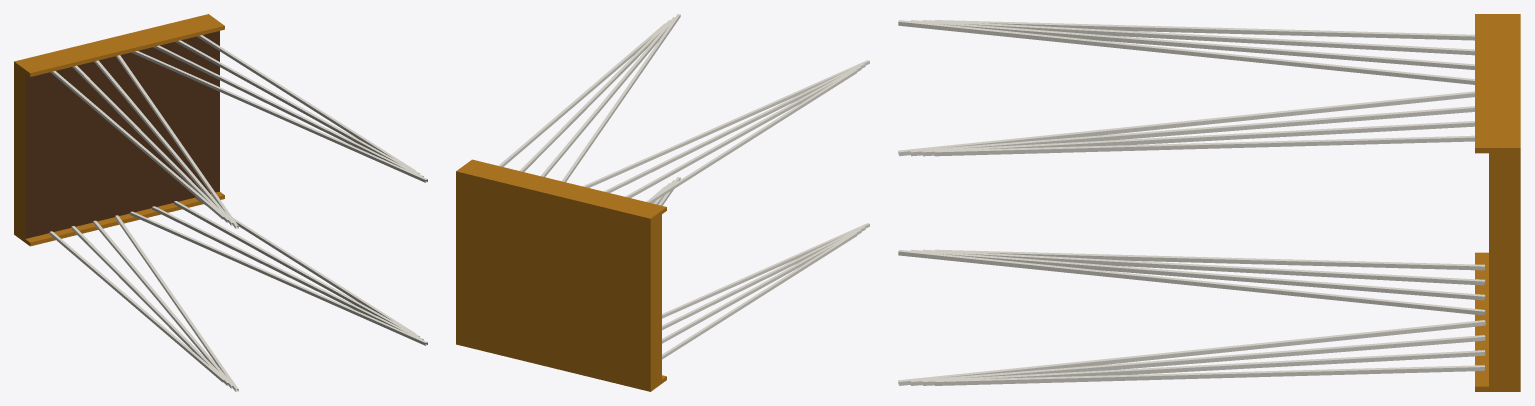
The model's file is middle_odd.glb.
3 renders of one model, left to right at view 1: azimuth 30°, elevation 25°; view 2: azimuth 150°, elevation 25°; view 3: azimuth 270°, elevation 25°, orthographic. The views are drawn at different scales.
Visible parts, largest first — view 1: bridge_05_middle_odd; view 2: bridge_05_middle_odd; view 3: bridge_05_middle_odd.
Boxes of the visible parts, x1=… form: bridge_05_middle_odd: x1=14, y1=14, x2=427, y2=391; bridge_05_middle_odd: x1=456, y1=14, x2=869, y2=391; bridge_05_middle_odd: x1=898, y1=14, x2=1520, y2=391.
Size of the model in its own units: 16 by 13.6 by 31.43.
